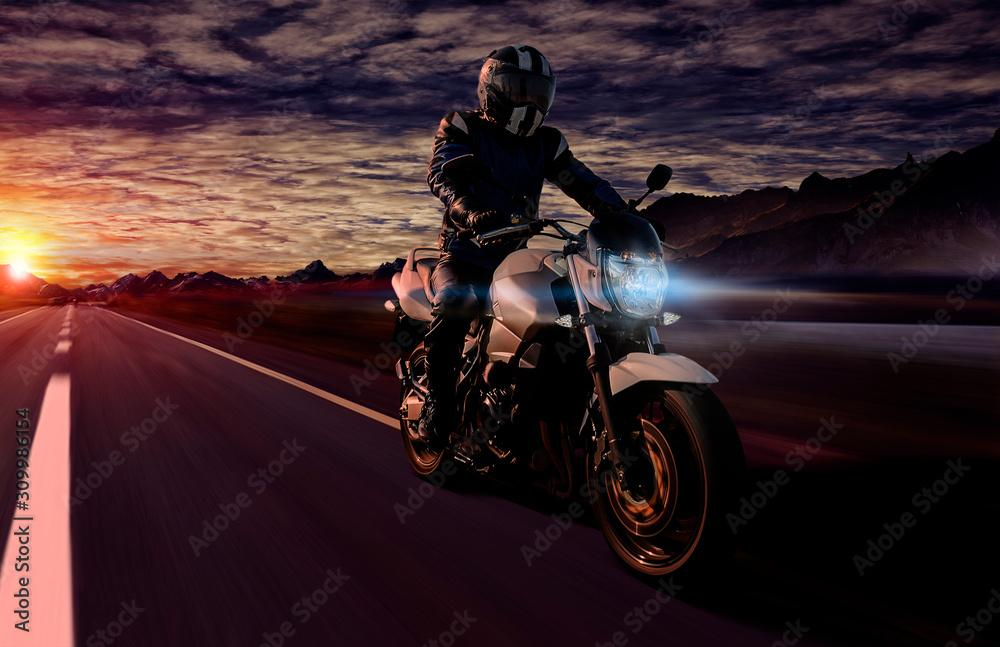helmet: (477, 43, 557, 140)
